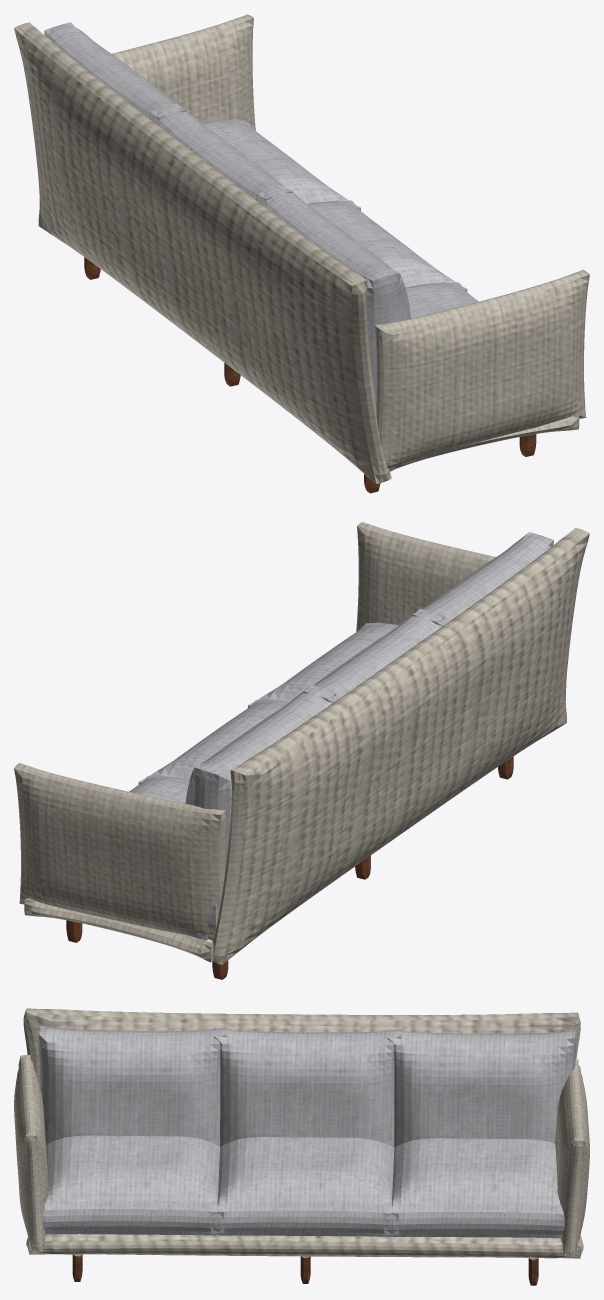
File: int_104.fbx
3 renders of one model, top to bottom at view 1: azimuth 30°, elevation 25°; view 2: azimuth 150°, elevation 25°; view 3: azimuth 270°, elevation 25°, orthographic. The views are drawn at different scales.
Parts seen in each view (by area): view 1: SOFA; view 2: SOFA; view 3: SOFA.
Part boxes in pixels (bbox=[...]): SOFA: bbox=[14, 14, 589, 493]; SOFA: bbox=[14, 522, 589, 979]; SOFA: bbox=[14, 1008, 589, 1285].
Size of the model in its own units: 106 by 97.15 by 261.
1 material, 1 textured.
